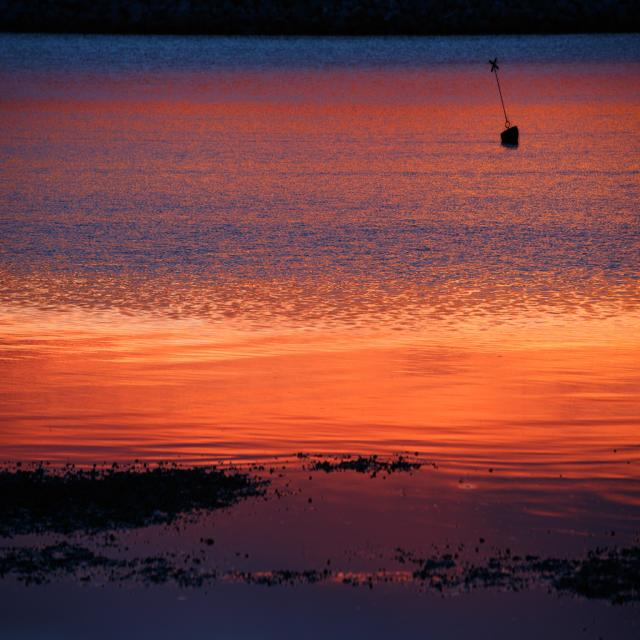no_fire: (72, 242, 632, 610)
